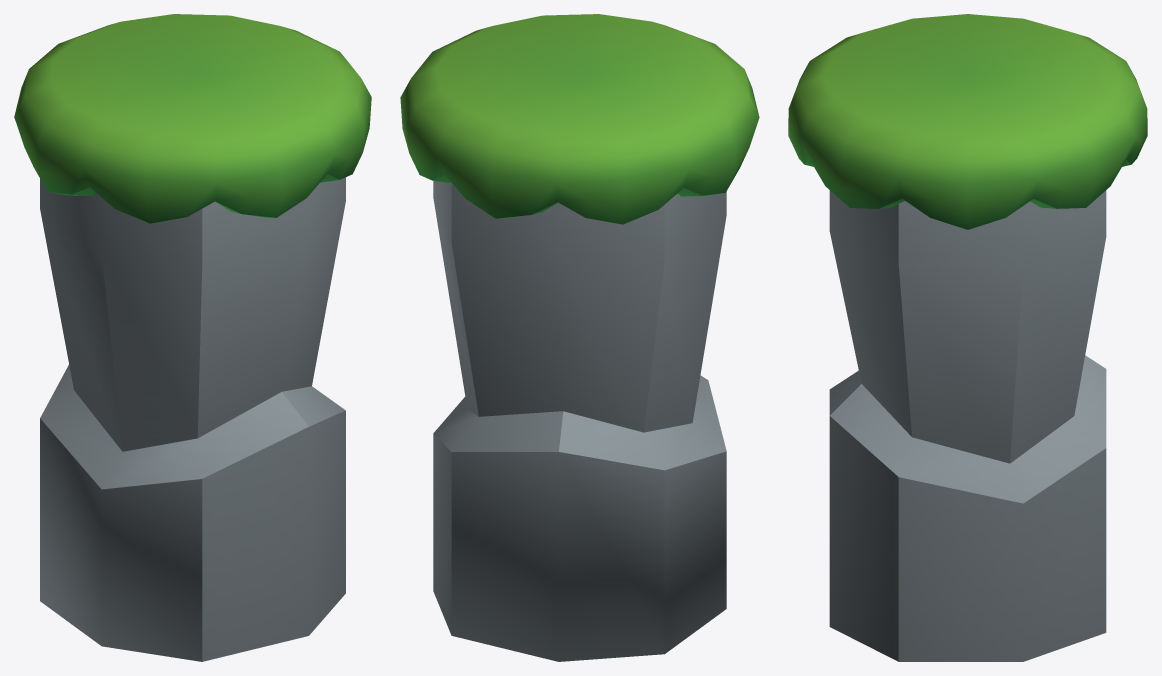
Rendered from Hill_2x2x4_Color1.gltf.
3 renders of one model, left to right at view 1: azimuth 30°, elevation 25°; view 2: azimuth 150°, elevation 25°; view 3: azimuth 270°, elevation 25°, orthographic.
Visible parts, largest first — view 1: Hill_2x2x4_Color1; view 2: Hill_2x2x4_Color1; view 3: Hill_2x2x4_Color1.
Boxes of the visible parts, left/top/right/bottom form: Hill_2x2x4_Color1: left=14, top=14, right=371, bottom=661; Hill_2x2x4_Color1: left=400, top=14, right=759, bottom=661; Hill_2x2x4_Color1: left=788, top=14, right=1147, bottom=661.
Bounding box in the file's own units: 2.47 × 4 × 2.47.
Materials: 1 (1 with a texture image).
